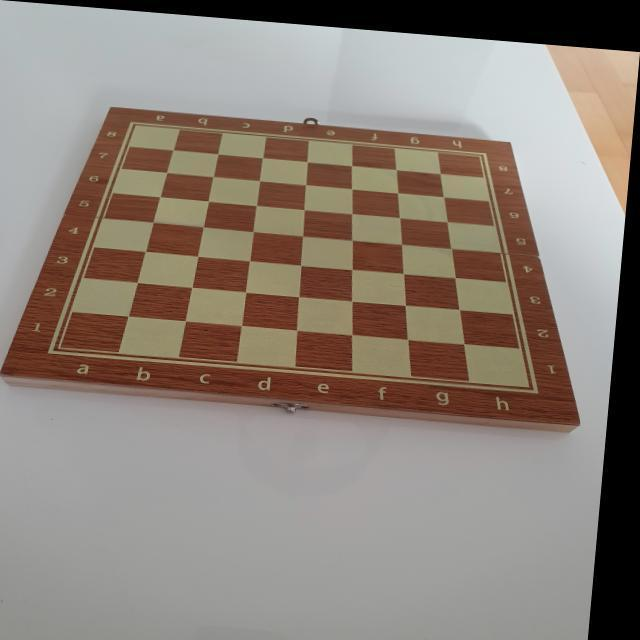chess-table-corners: (526, 366, 552, 391), (46, 338, 78, 358), (124, 114, 152, 132), (474, 138, 497, 154)
